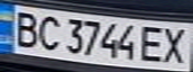3: (60, 16, 84, 55)
4: (115, 21, 142, 61), (100, 20, 121, 60)
7: (78, 18, 103, 57)
B: (9, 9, 42, 48)
C: (33, 12, 63, 52)
E: (136, 22, 169, 64)
X: (157, 25, 193, 65)
